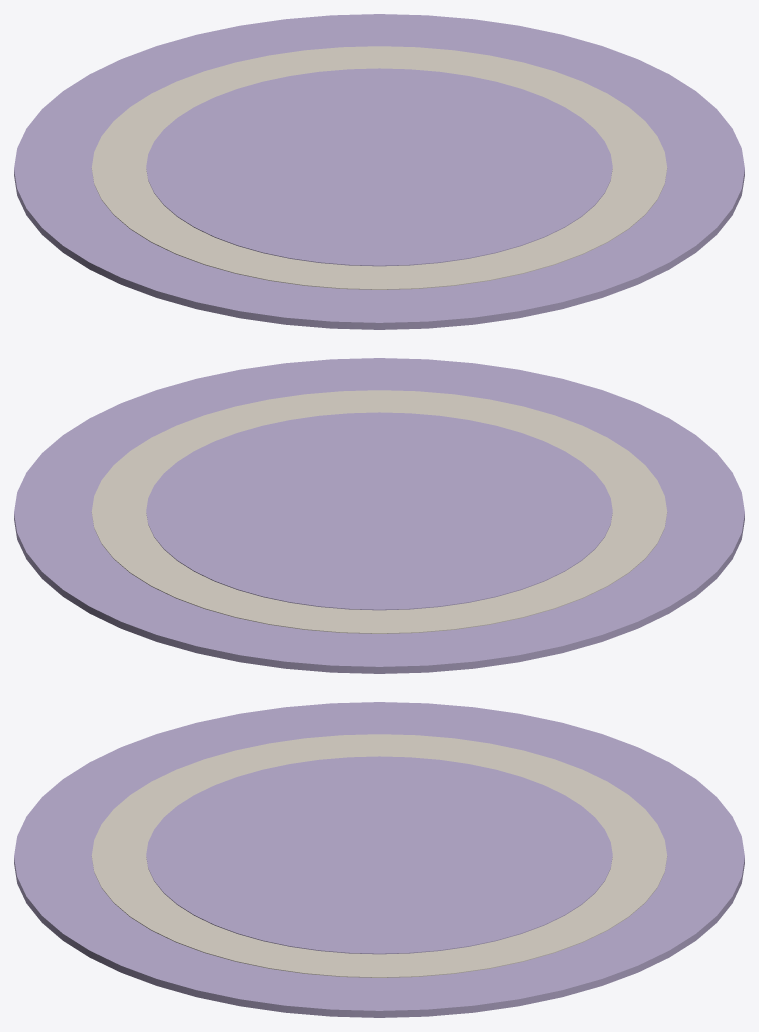
File: furn_rug_ph.glb
The picture shows the model from 3 angles, top to bottom: view 1: azimuth 30°, elevation 25°; view 2: azimuth 150°, elevation 25°; view 3: azimuth 270°, elevation 25°; orthographic projection.
Visible parts, largest first — view 1: furn_rug; view 2: furn_rug; view 3: furn_rug.
Part boxes in pixels (box(x1,y1,x2,y2)): furn_rug: box(14, 14, 744, 329); furn_rug: box(14, 358, 744, 673); furn_rug: box(14, 702, 744, 1017).
Size of the model in its own units: 1.88 by 0.024 by 1.88.
